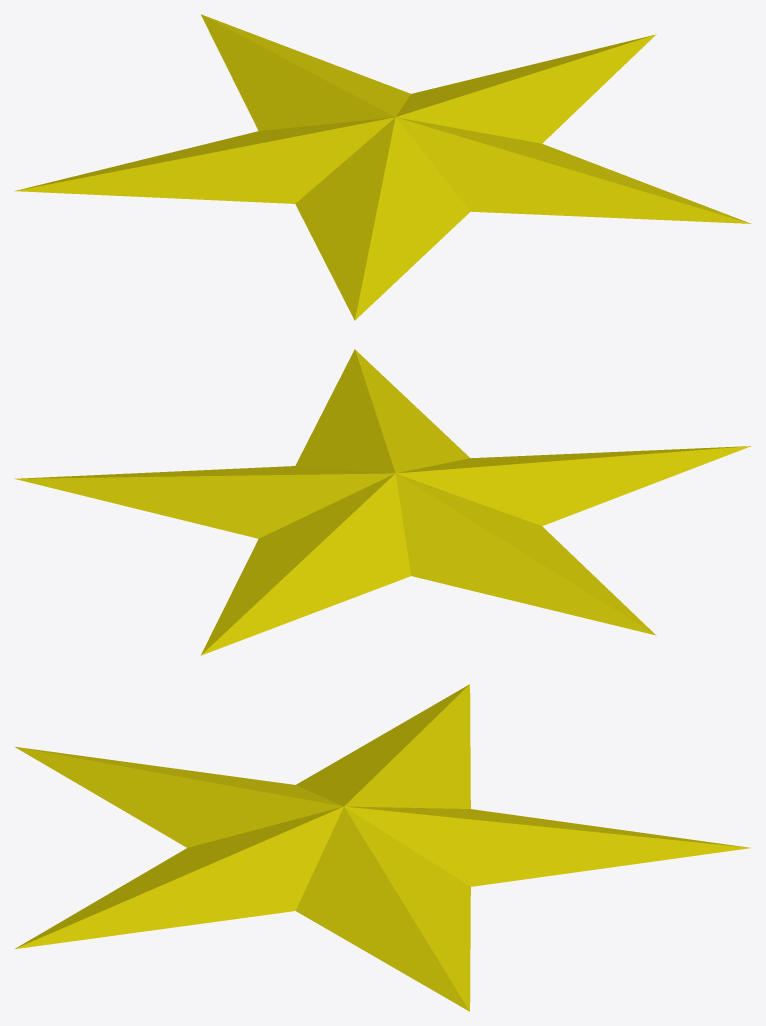
File: Star.fbx
3 renders of one model, top to bottom at view 1: azimuth 30°, elevation 25°; view 2: azimuth 150°, elevation 25°; view 3: azimuth 270°, elevation 25°, orthographic. The views are drawn at different scales.
Parts seen in each view (by area): view 1: 円; view 2: 円; view 3: 円.
Part boxes in pixels (x1,y1,x2,y2): 円: (14,14,751,320); 円: (14,349,751,655); 円: (14,684,750,1011).
Bounding box in the file's own units: 495 × 58.39 × 471.
